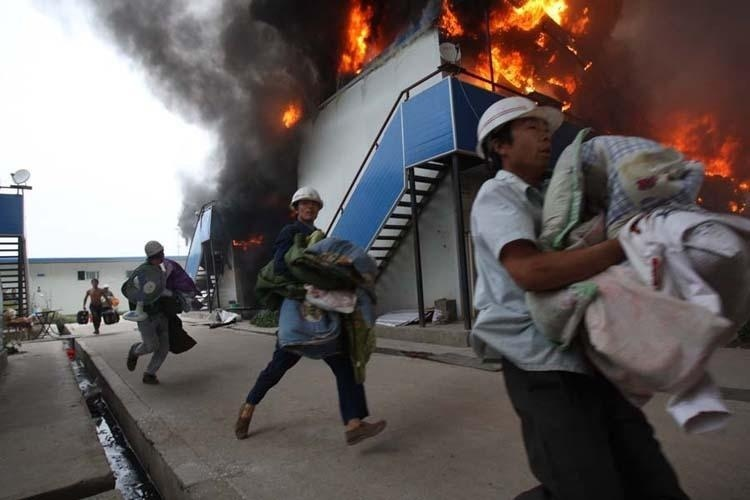fire: (450, 0, 588, 103), (667, 113, 750, 208), (339, 3, 372, 72), (228, 231, 264, 250), (279, 101, 303, 127)
